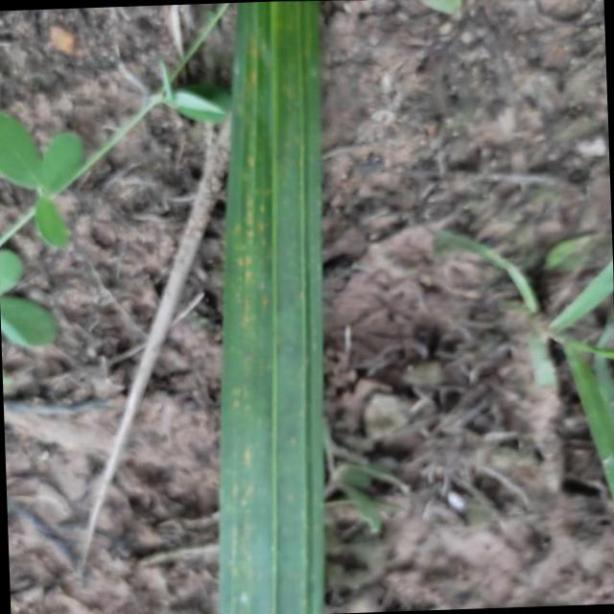Kalium: (222, 0, 328, 614)
